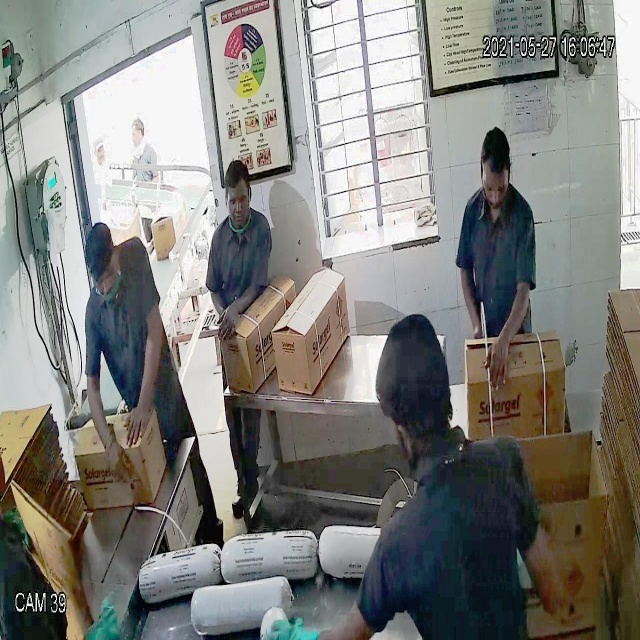Sin_gafas: (477, 166, 516, 205), (86, 261, 121, 296)
